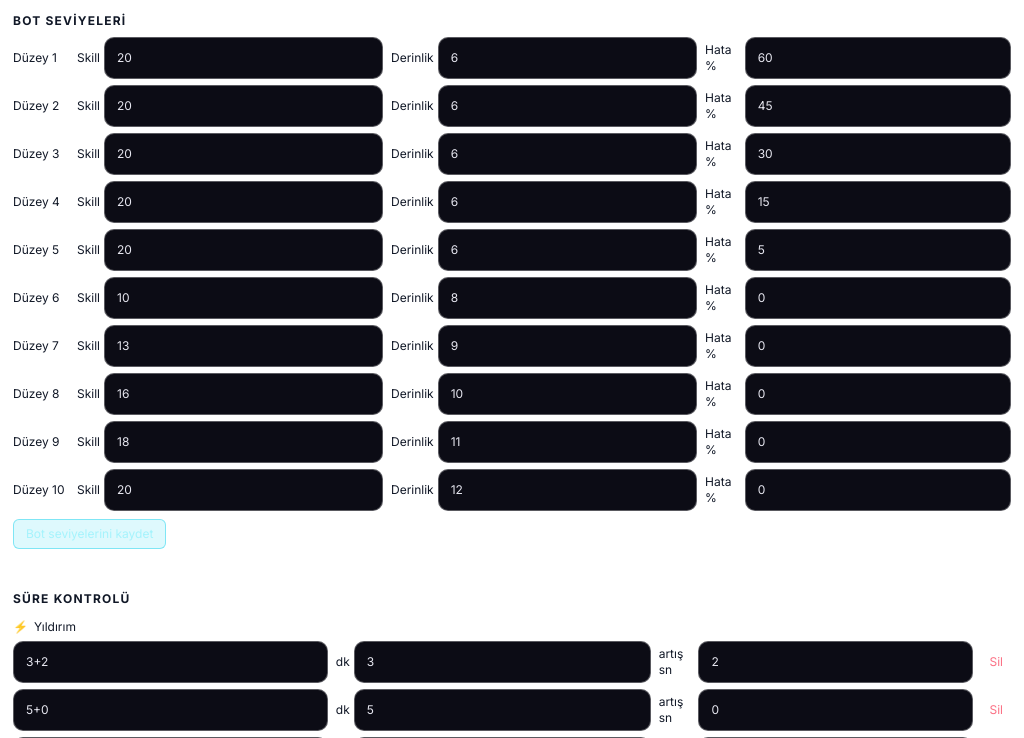
PlaySettingsFields — Süre Kontrolü › Sil ile bir süre kaldırılır
The image size is (1024, 738).
What coordinates should you click on to do the following:
click the 1st button "Sil"
I would click on:
 (996, 662)
Its box is [982,650,1011,674].
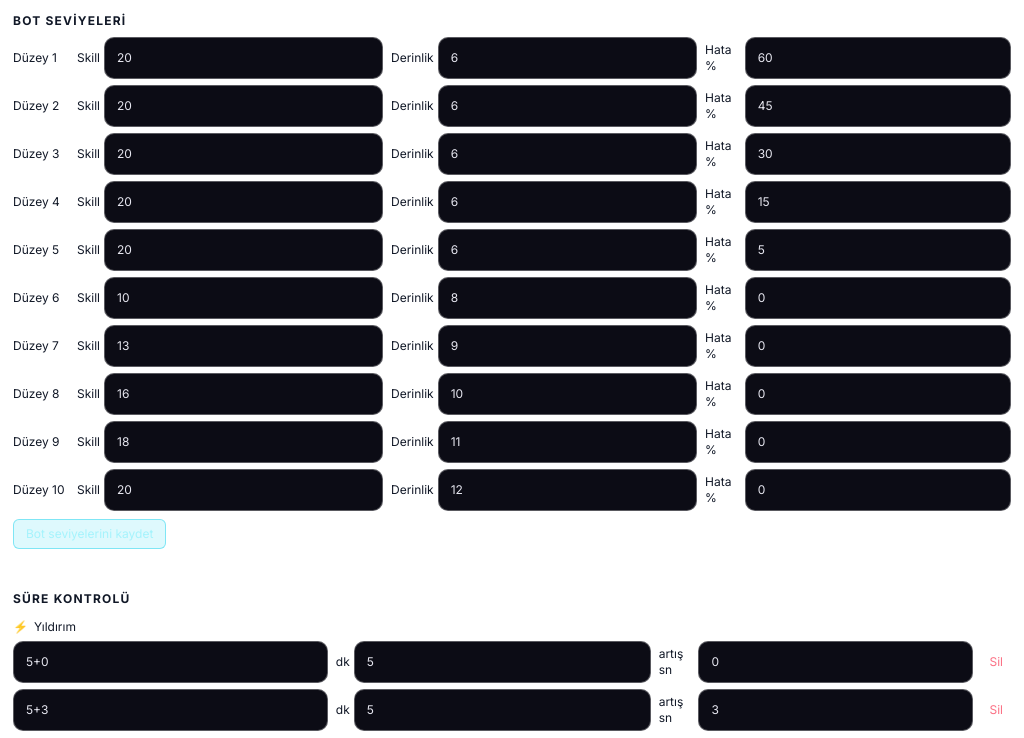
Expected: the number of fields with placeholder "Etiket (örn. 5+3)" is 8
